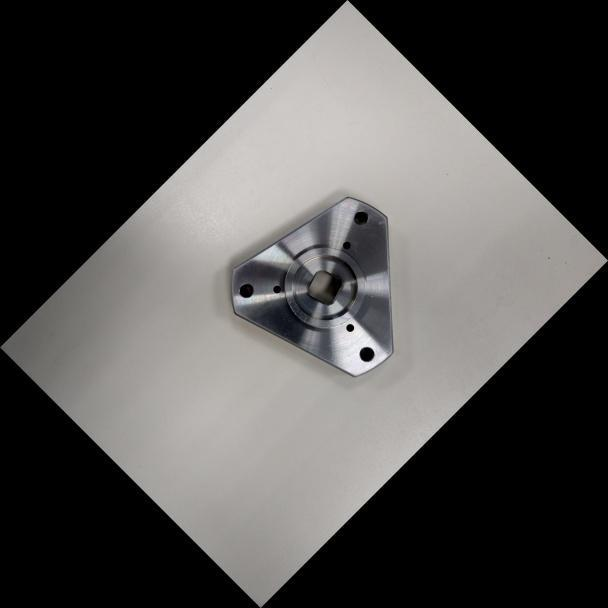hole: (346, 204, 374, 232), (353, 341, 380, 368), (233, 277, 259, 303), (336, 236, 355, 254), (342, 320, 358, 335), (270, 281, 285, 296)
